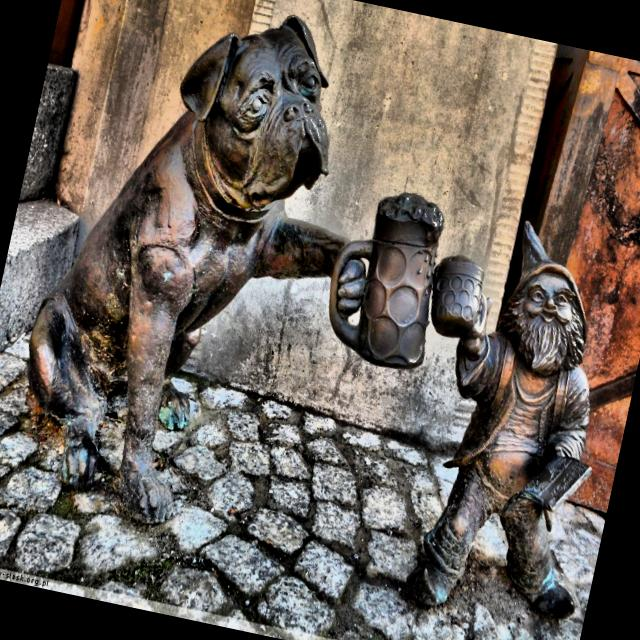Piwozlopek_ i_Piesel_Piwosz: (29, 17, 589, 618)
